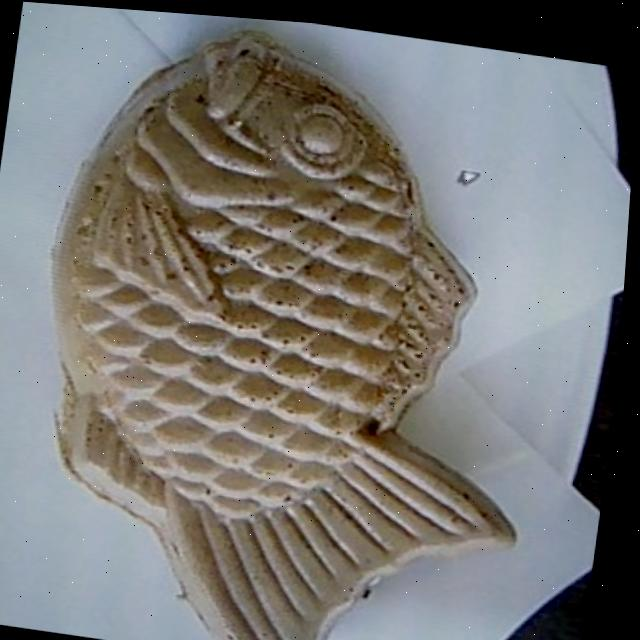熟制海鲜: (0, 2, 587, 640)
